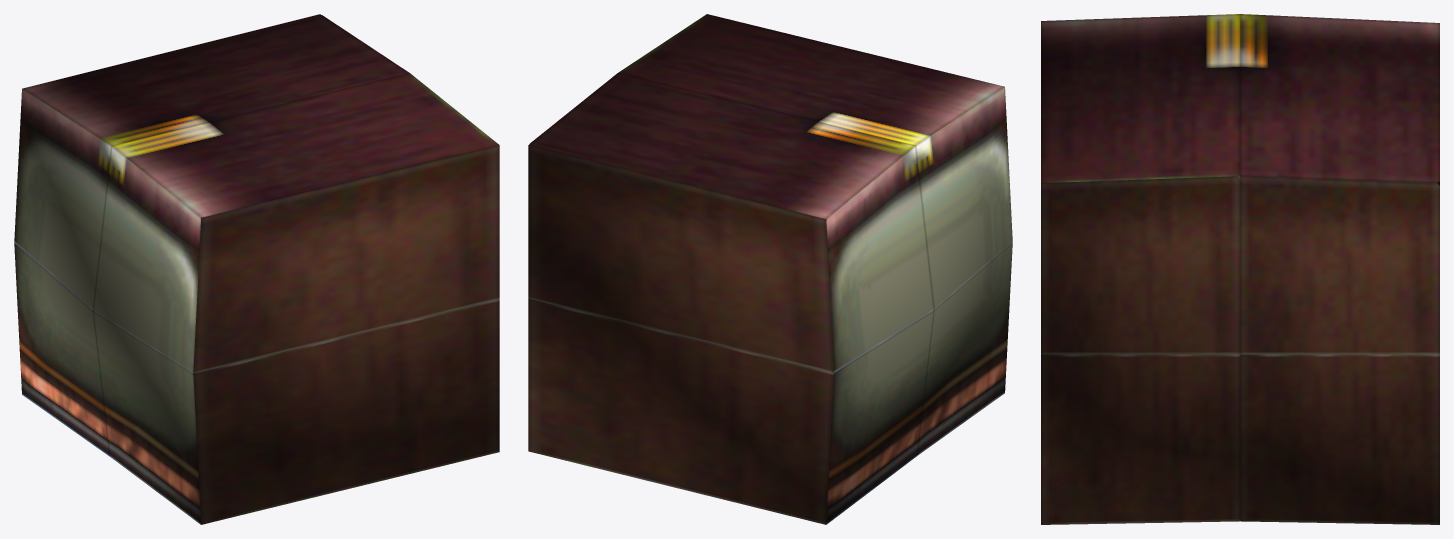
3 renders of one model, left to right at view 1: azimuth 30°, elevation 25°; view 2: azimuth 150°, elevation 25°; view 3: azimuth 270°, elevation 25°, orthographic. The views are drawn at different scales.
Visible parts, largest first — view 1: T1L2M007_20; view 2: T1L2M007_20; view 3: T1L2M007_20.
Boxes of the visible parts, x1=… form: T1L2M007_20: x1=14, y1=14, x2=499, y2=524; T1L2M007_20: x1=528, y1=14, x2=1012, y2=524; T1L2M007_20: x1=1041, y1=14, x2=1439, y2=524.
Size of the model in its own units: 0.7178 by 0.6797 by 0.7021.
1 material, 1 textured.
